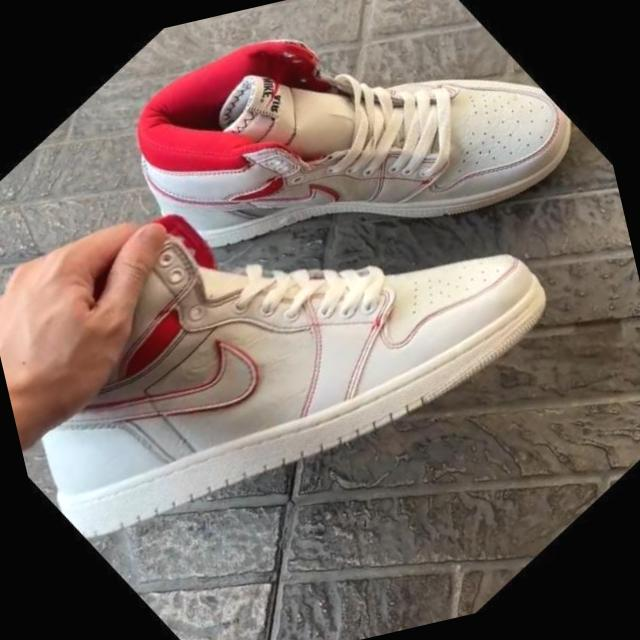nike_fake_jordan: (0, 0, 633, 640), (78, 0, 633, 426)
